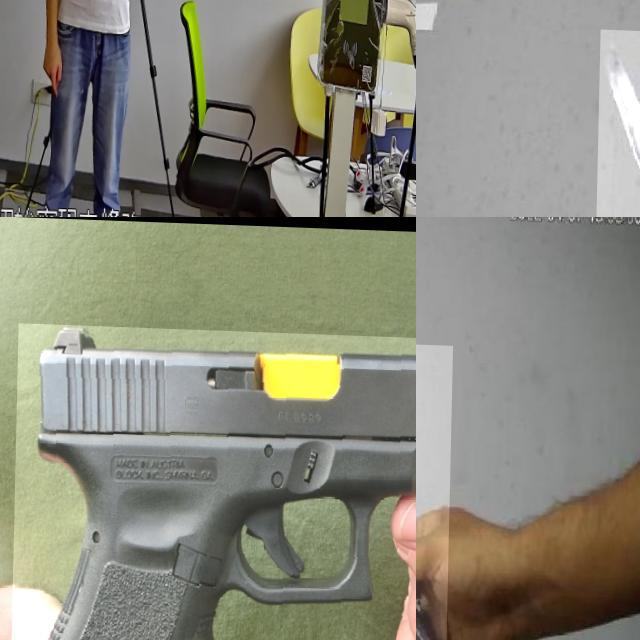-: (416, 337, 512, 640)
gun-knife-thesis - v11 Yolov5 augmented: (11, 322, 416, 640), (100, 0, 120, 31)
